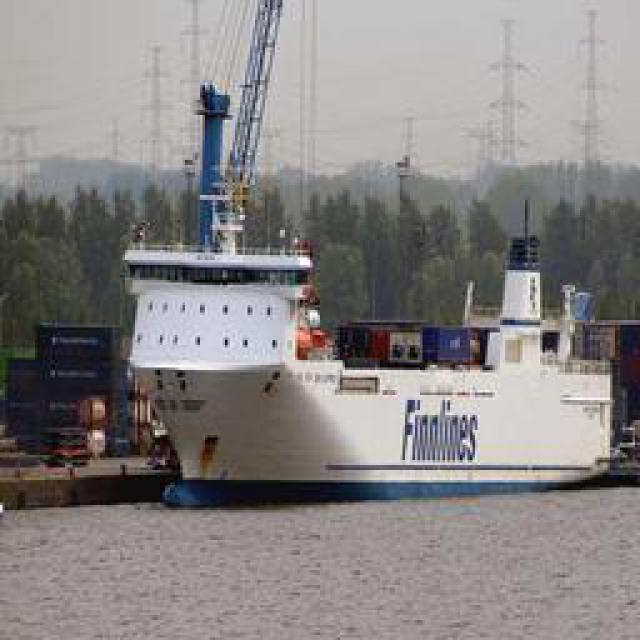Ship: (80, 150, 640, 512)
